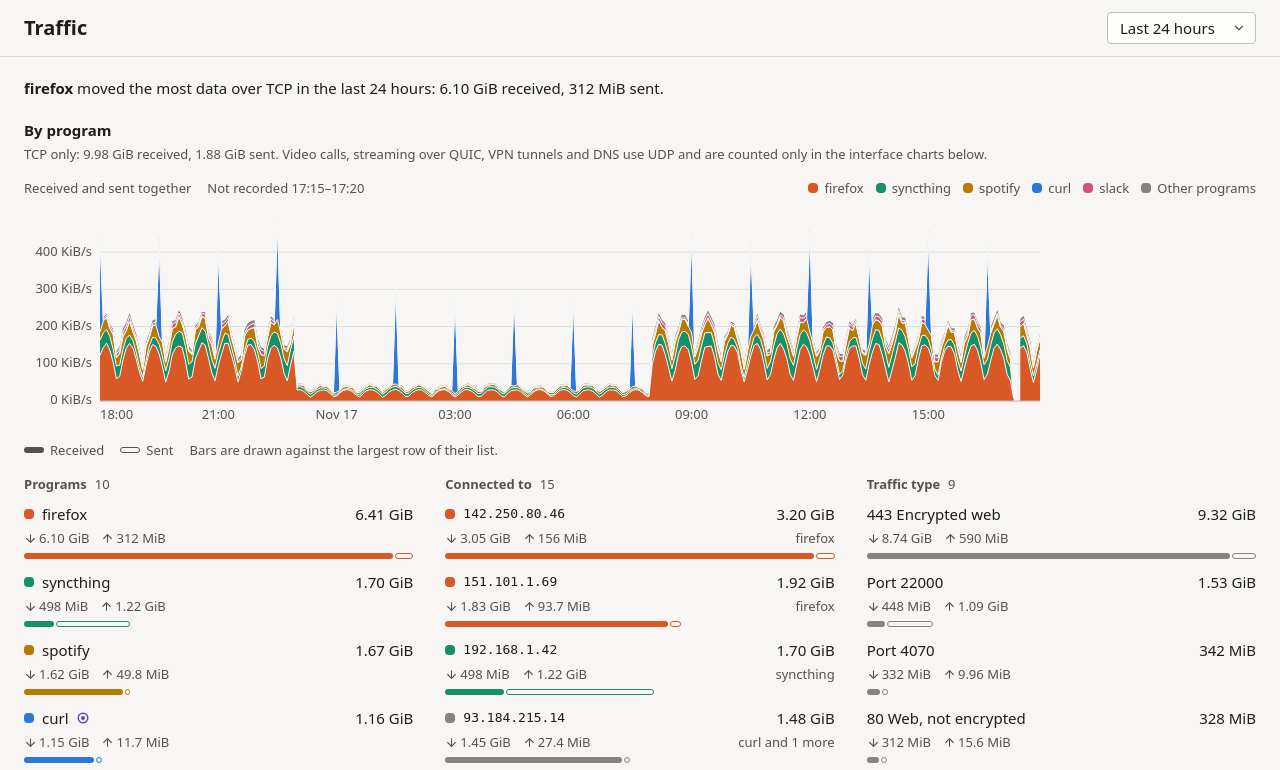
Traffic › names the program behind an address and whether the address is local
Click the button with aria-label "192.168.1.42, syncthing: " at (510, 650), box [437, 633, 843, 701]
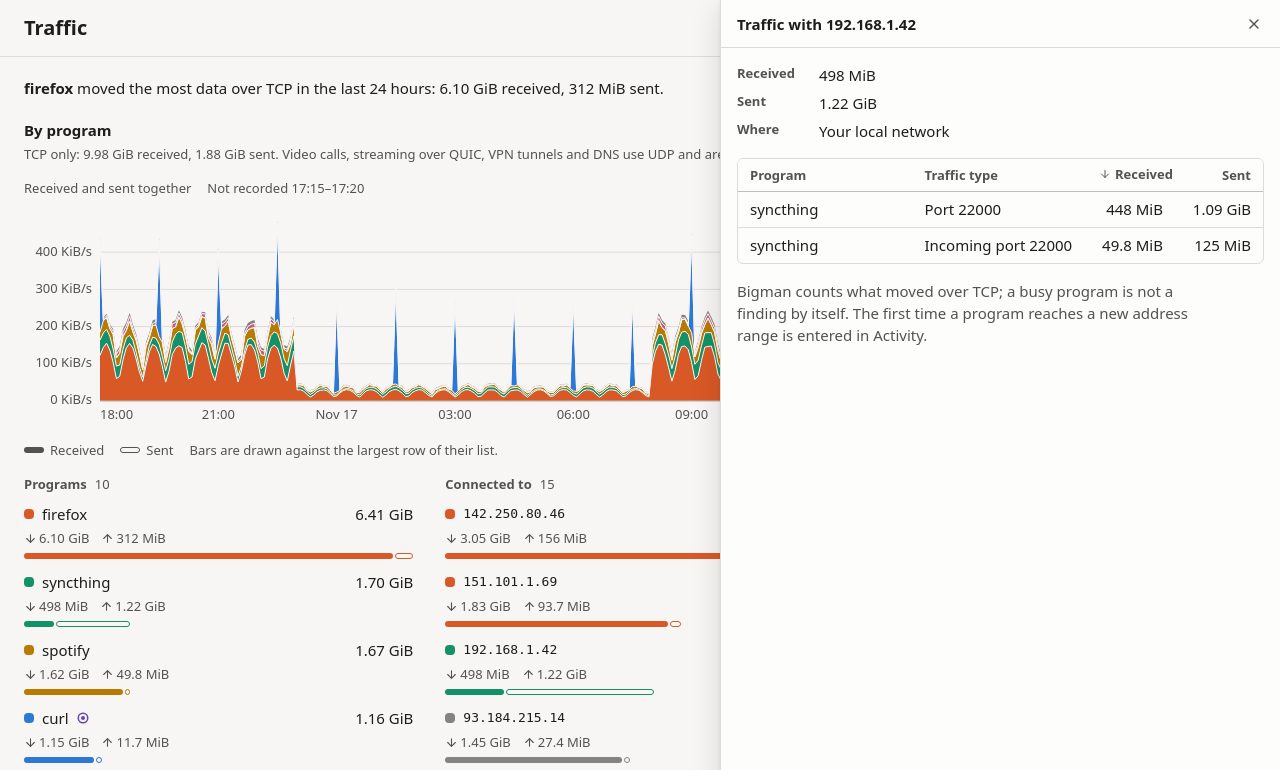
expect the text "Your local network" is shown: met, box [819, 121, 950, 141]
expect the text "Incoming port 22000" is shown: met, box [912, 227, 1087, 263]
